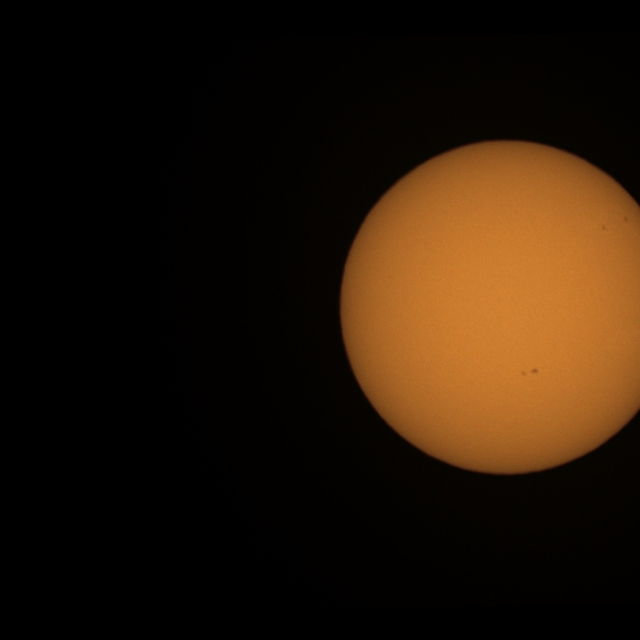sunspot: (520, 367, 540, 377), (530, 367, 539, 376), (601, 224, 608, 232), (622, 215, 628, 224)
